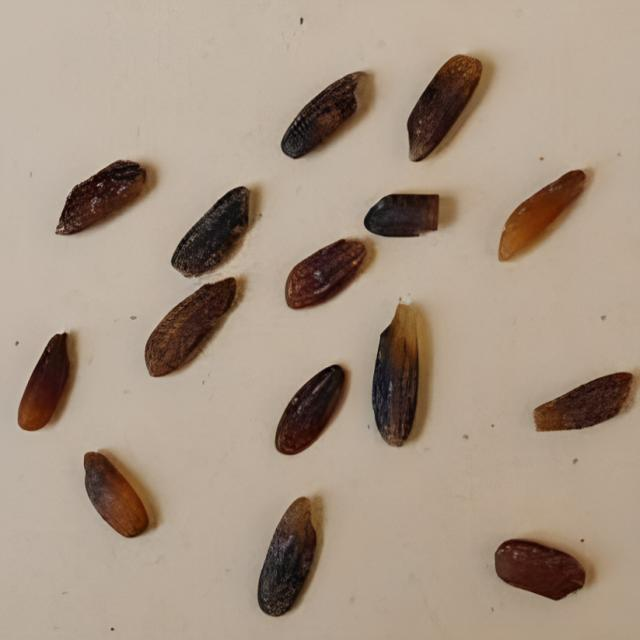Broken: (145, 277, 236, 377), (407, 54, 482, 162), (498, 170, 586, 262), (257, 497, 317, 617), (172, 186, 250, 278), (55, 159, 146, 236), (281, 72, 362, 158), (372, 304, 418, 447), (274, 364, 344, 455), (533, 372, 633, 432), (284, 238, 366, 310), (494, 538, 586, 601), (84, 451, 148, 538), (17, 334, 70, 432), (363, 194, 439, 238)
